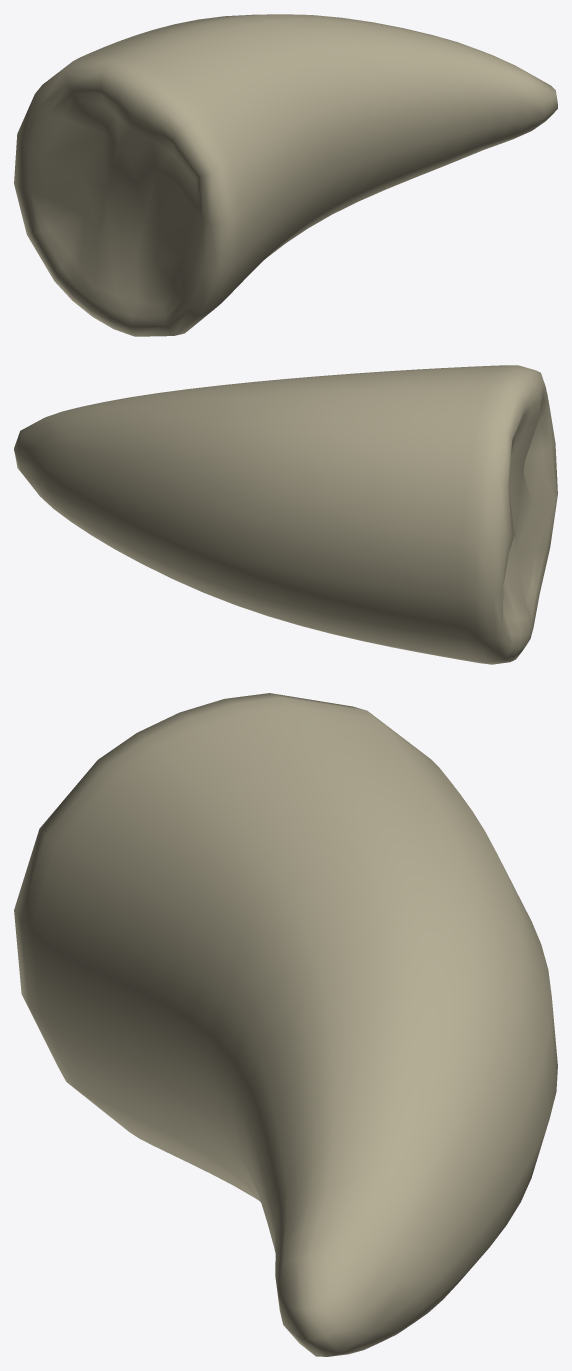
The model's file is DenteDeLobo.fbx.
3 views of the same model, one above another, from view 1: azimuth 30°, elevation 25°; view 2: azimuth 150°, elevation 25°; view 3: azimuth 270°, elevation 25° (orthographic). The views are drawn at different scales.
Visible parts, largest first — view 1: Dente de Lobo; view 2: Dente de Lobo; view 3: Dente de Lobo.
Boxes of the visible parts, bbox=[...] form: Dente de Lobo: bbox=[14, 14, 557, 336]; Dente de Lobo: bbox=[14, 365, 557, 664]; Dente de Lobo: bbox=[14, 693, 557, 1356].
Size of the model in its own units: 217 by 108 by 121.
